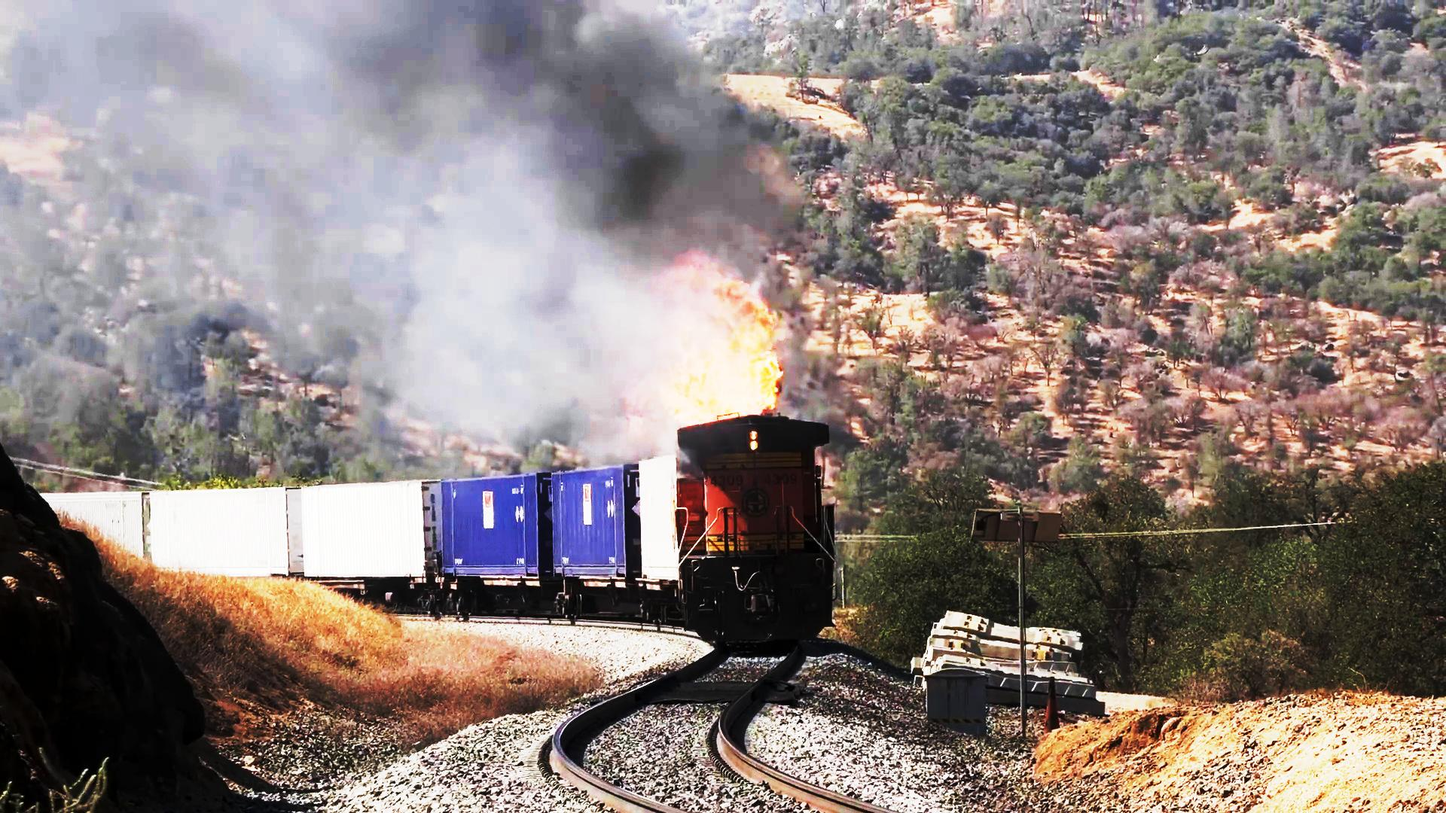fire: (622, 266, 784, 423)
